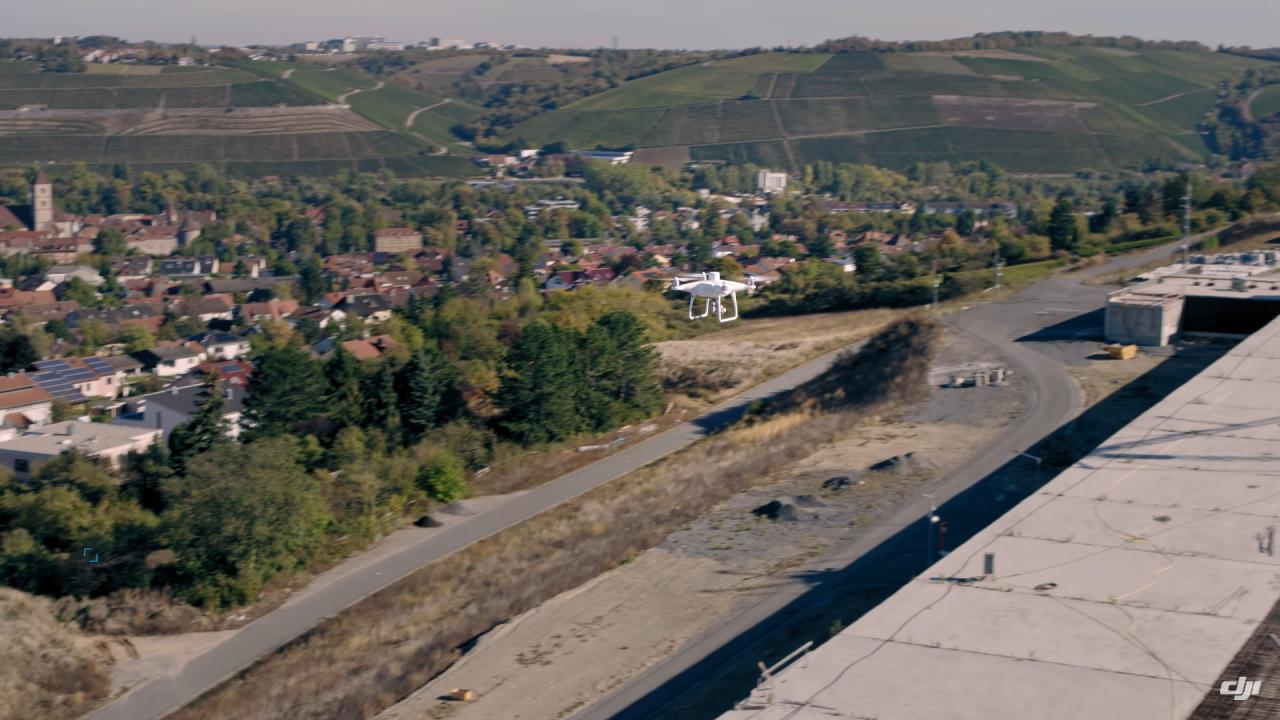Drone: (643, 262, 789, 334)
